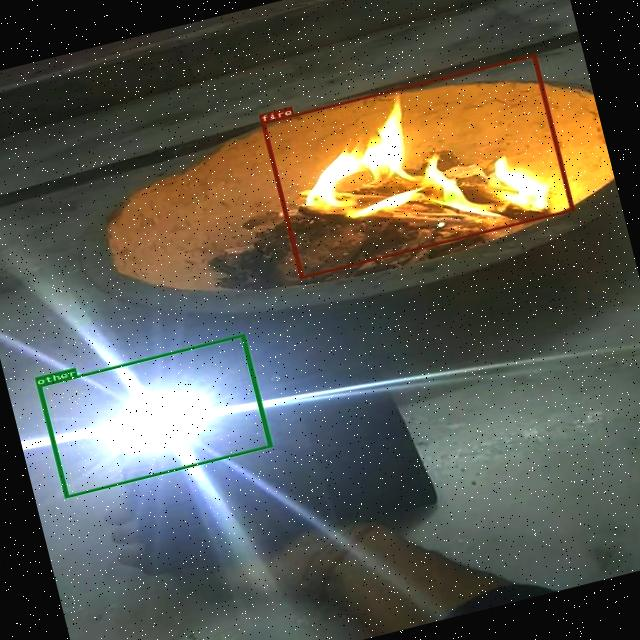fire: (260, 53, 574, 278)
